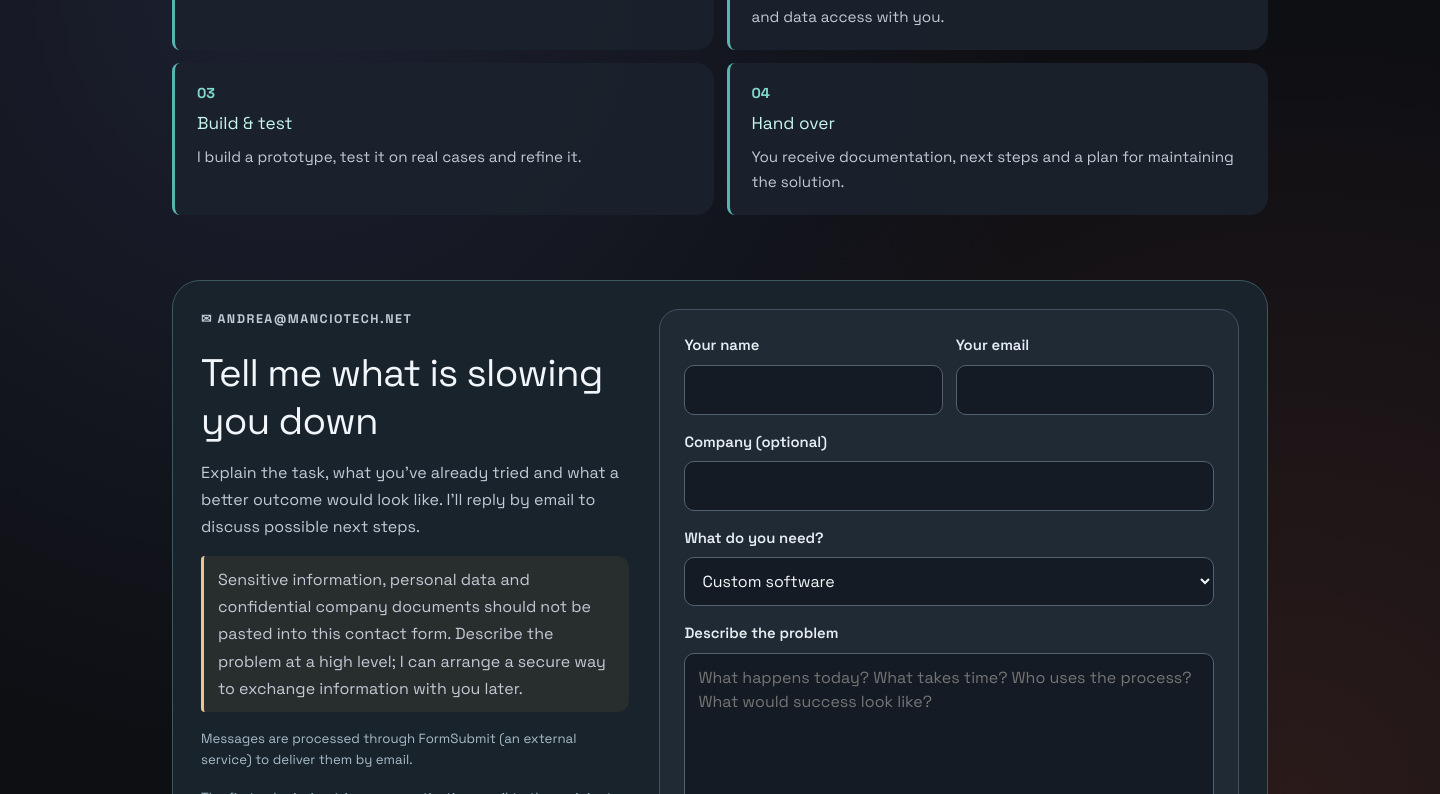
contact form reports remote submission failures instead of claiming delivery
(page scrolled)
Type "Test Person" into the field labelled "Your name" at point(814, 390), box [684, 365, 943, 415]
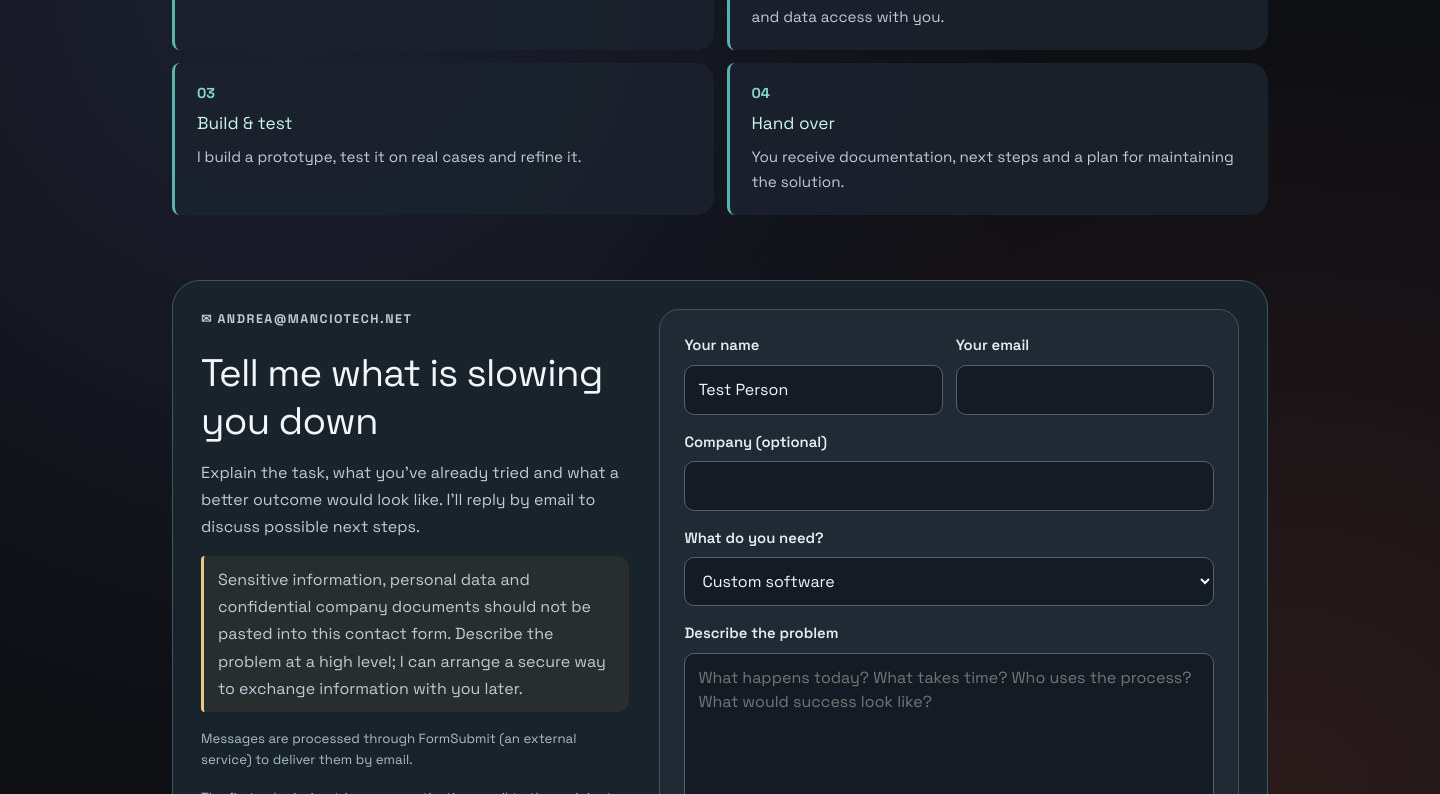
Type "contact@example.org" into the field labelled "Your email" at point(1085, 390), box [956, 365, 1214, 415]
(page scrolled)
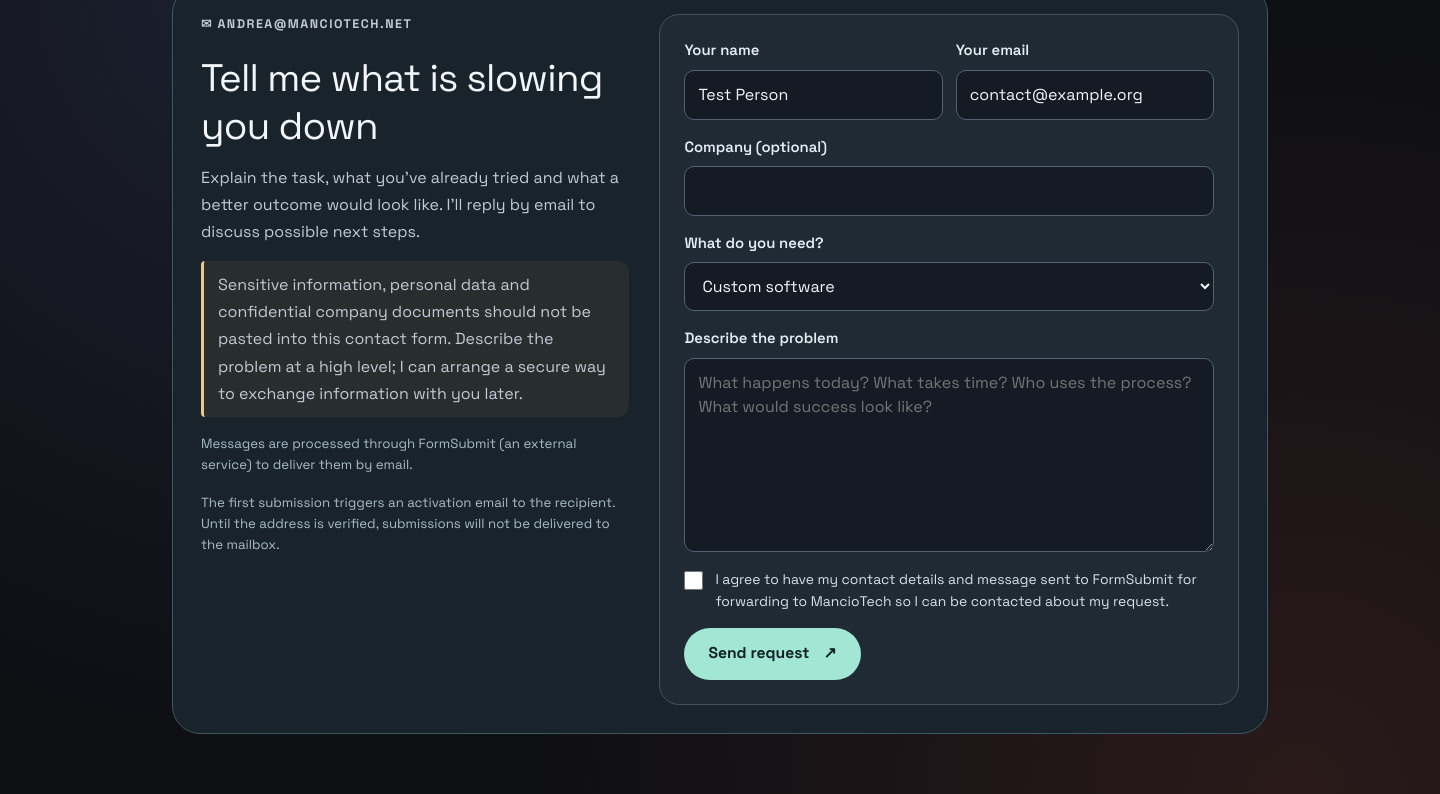
Replace the text in the text box labelled "Describe the problem" with "This reporting workflow needs a reliable automation." at point(949, 455), box [684, 358, 1214, 552]
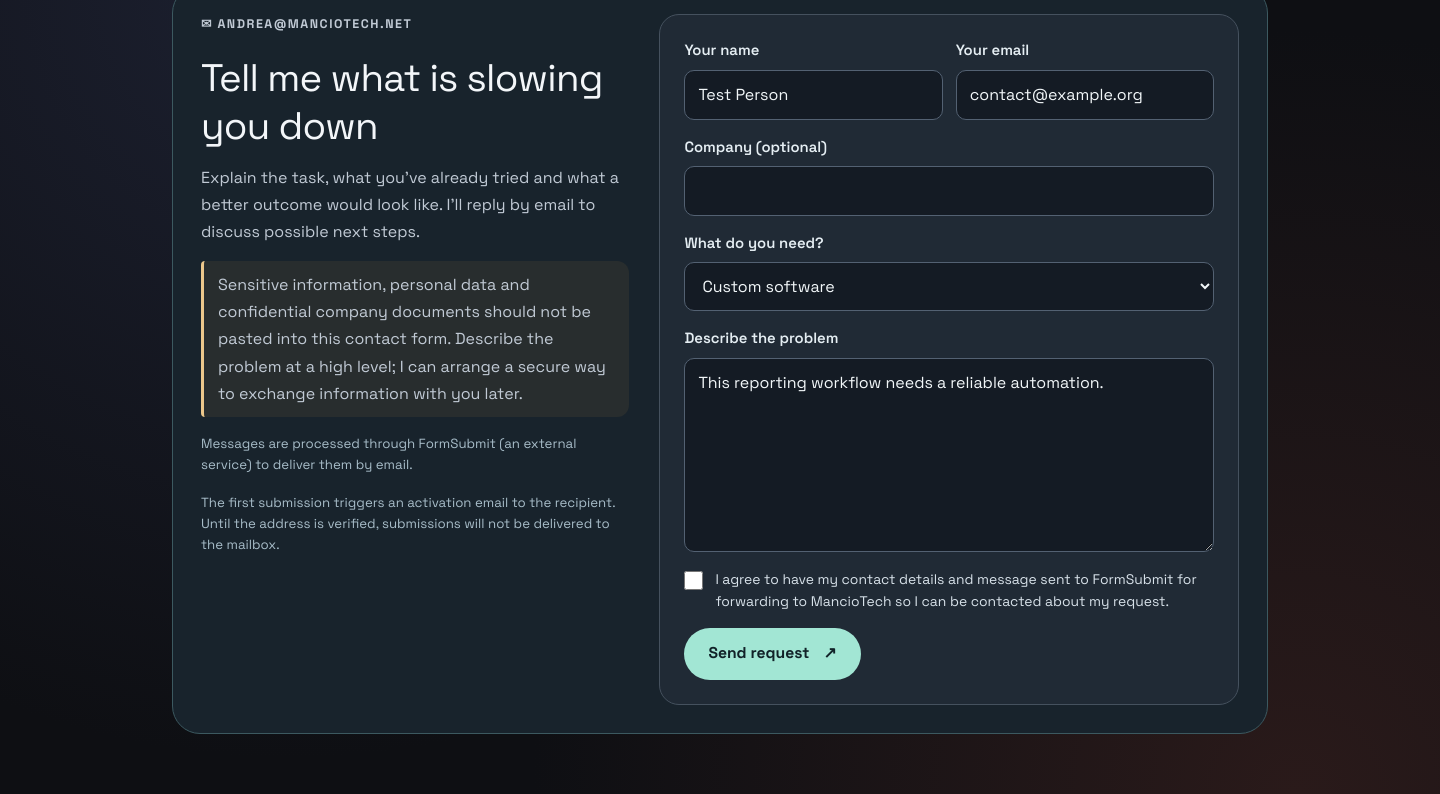
Click the checkbox at point(694, 580), box [684, 571, 703, 590]
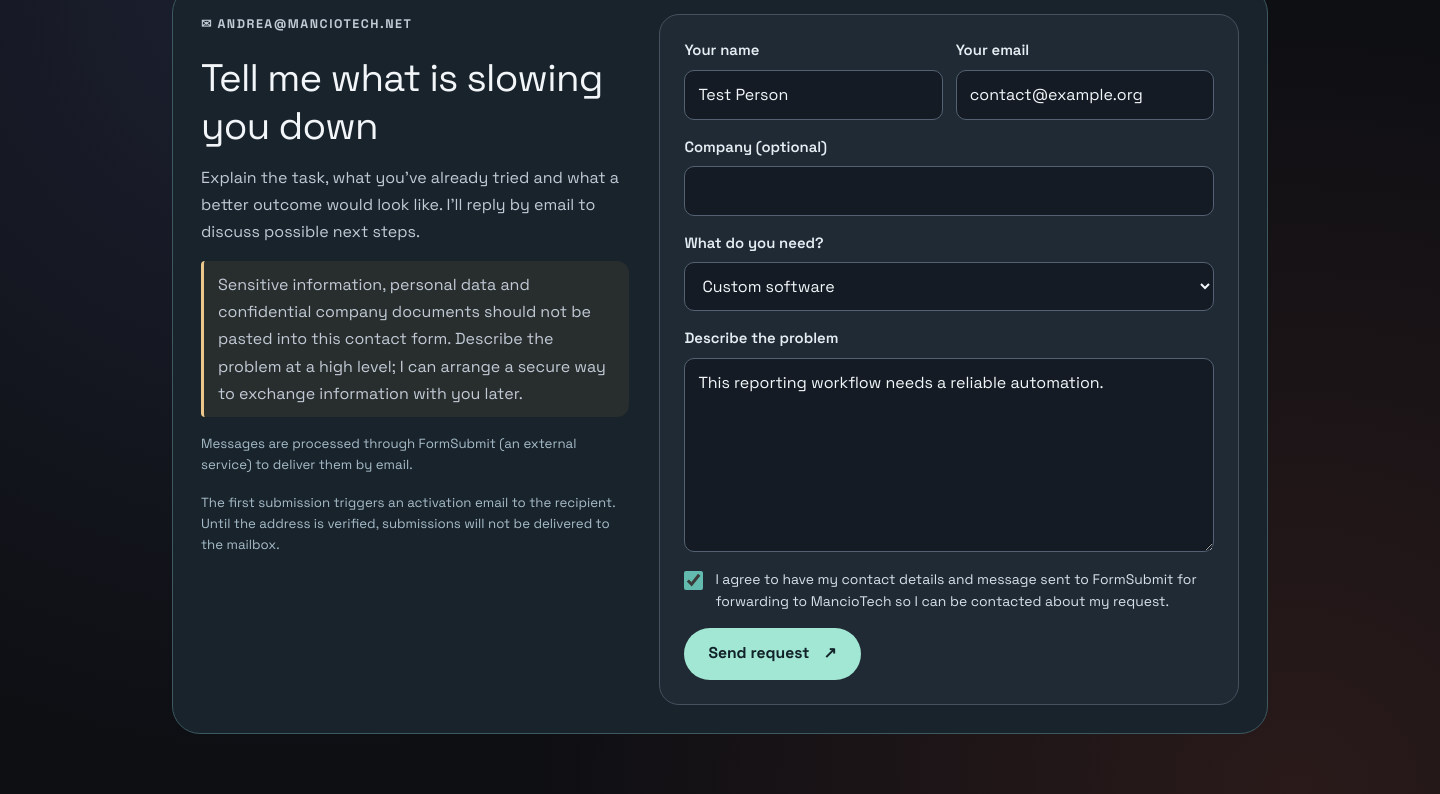
Click the button "Send request ↗" at point(772, 654), box [684, 628, 861, 680]
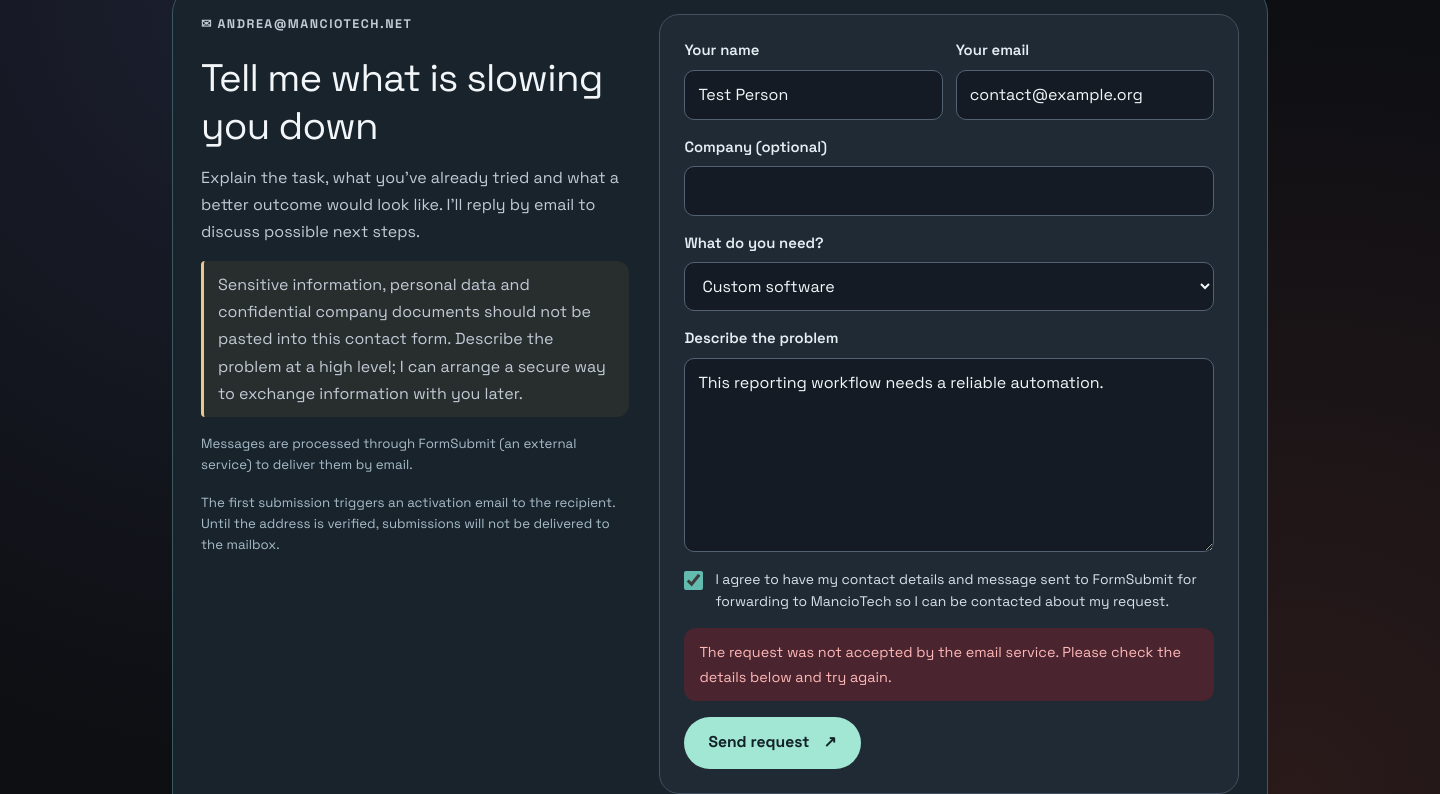
Now the message shows "not accepted by the email service", box [699, 643, 1181, 686]
